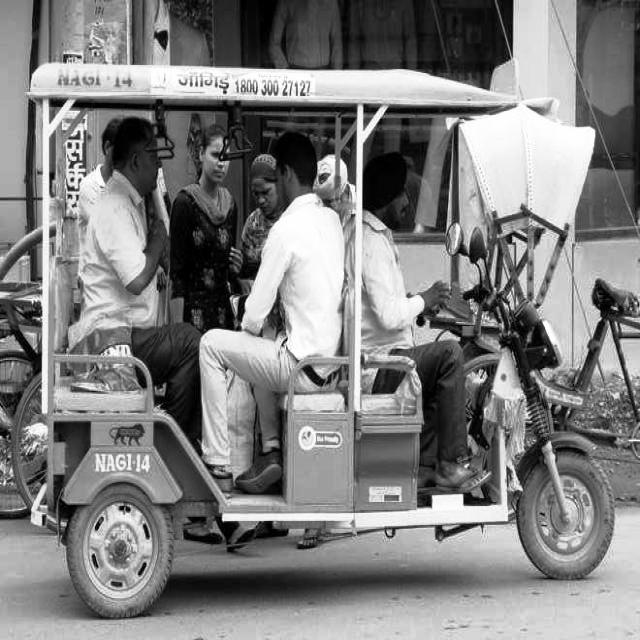Toto: (27, 55, 615, 608)
